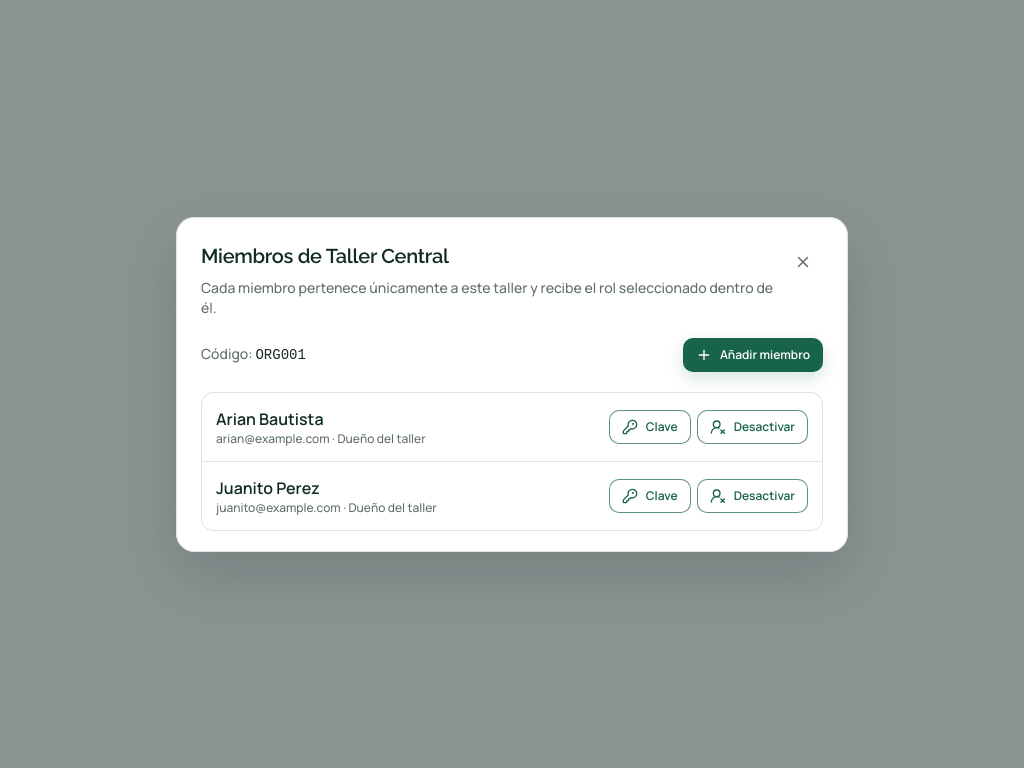
Scenario: OrganizationMembersModal › permite cerrar manualmente el bloque de clave temporal
Click the button "Clave" in the row of "arian@example.com" at (650, 426), box [609,410,691,444]
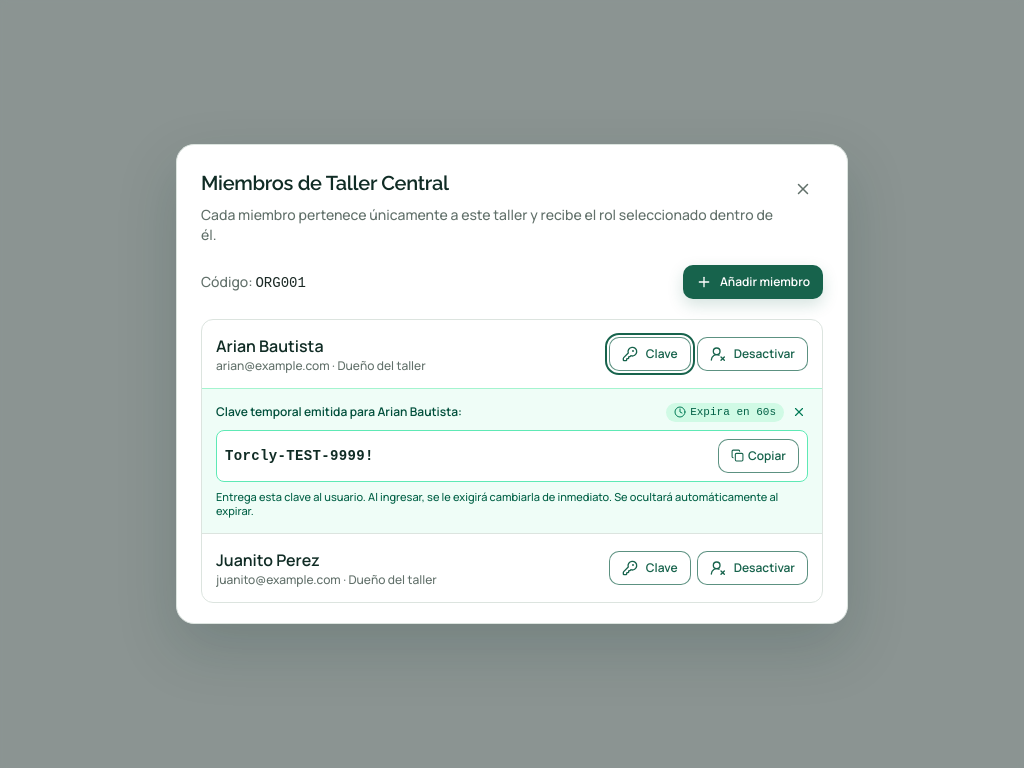
Check: the text "Torcly-TEST-9999!" is shown, box [225,446,374,466]
Click the button named "cerrar clave temporal" at (799, 412), box [790,403,808,421]
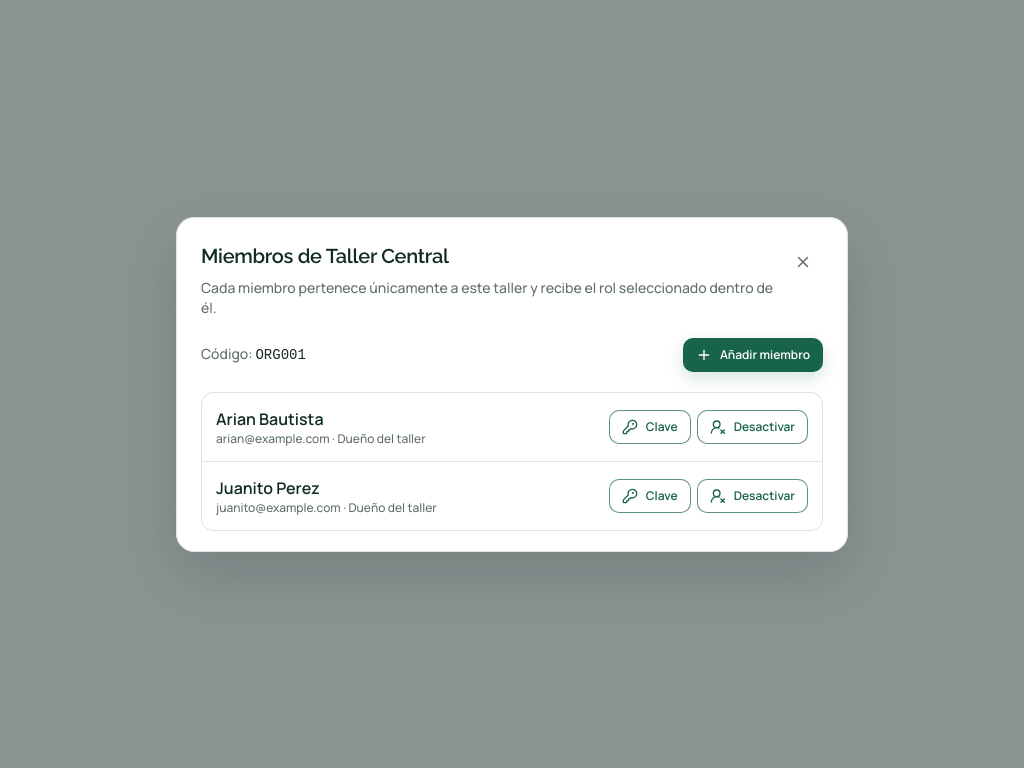
Check: the text "Torcly-TEST-9999!" is gone
